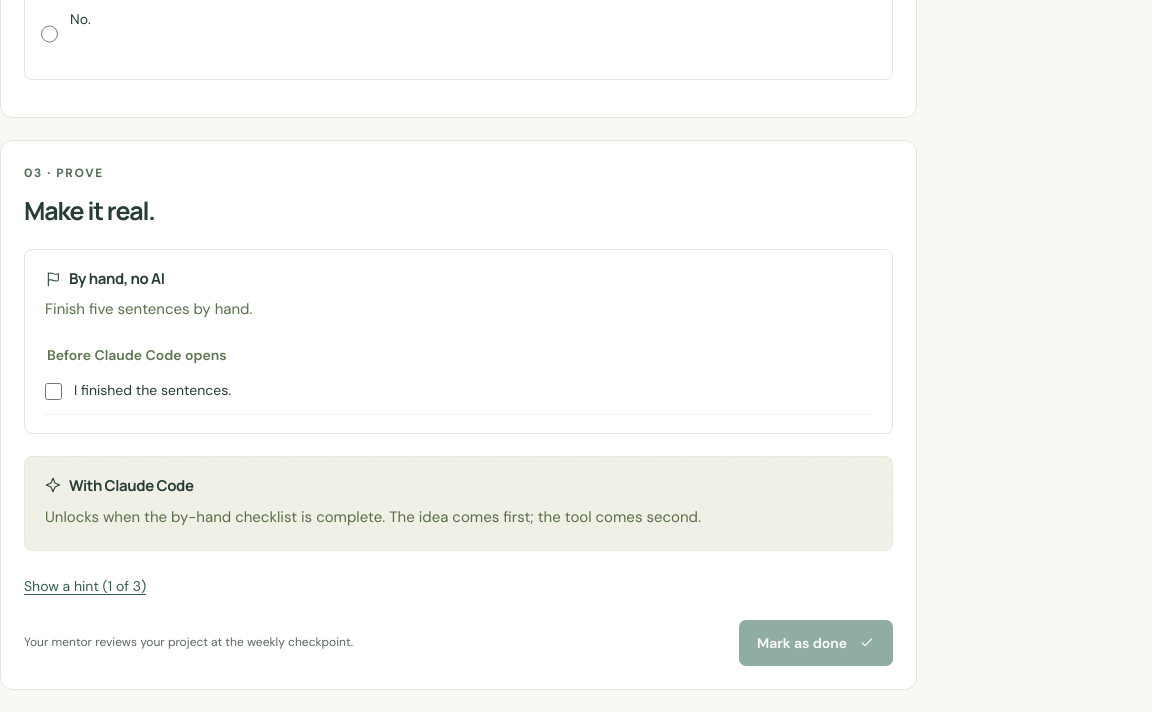
Test case: ConceptView widgets and step rail › asks for an explanation after the Claude Code task and saves it before the lesson can be done
(page scrolled)
expect the text "What changed, file by file?" is not shown: met
Click the checkbox labelled "I finished the sentences." at {"x": 54, "y": 392}, box [45, 383, 62, 400]
(page scrolled)
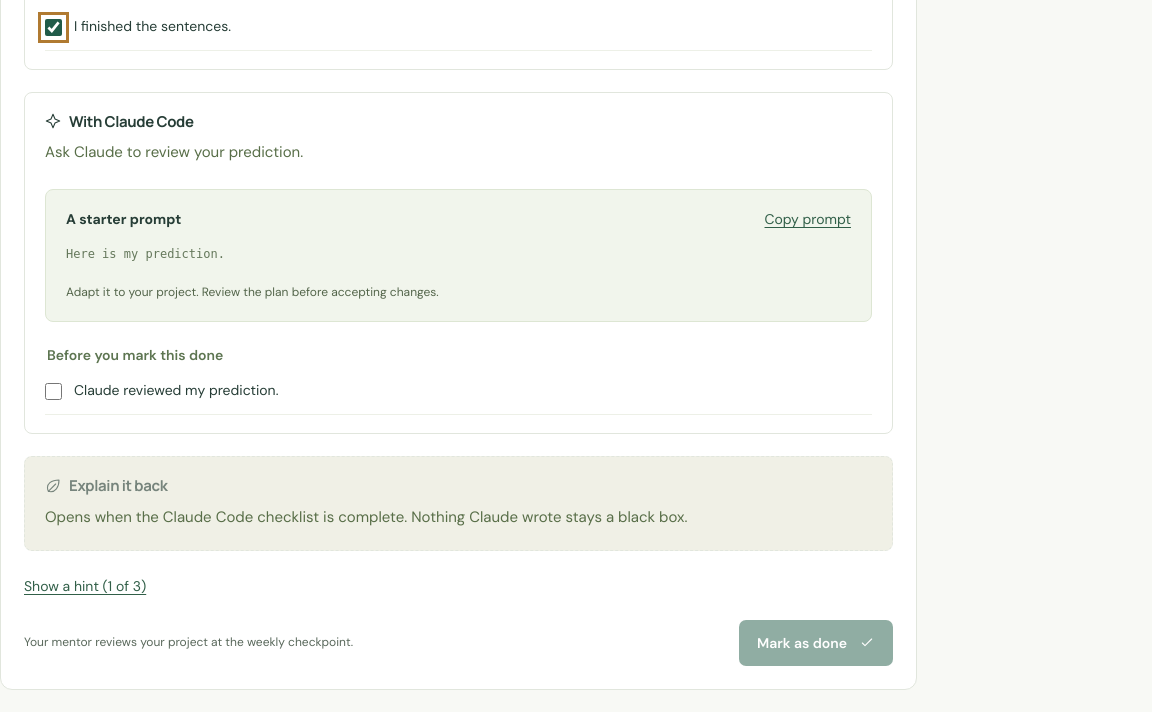
expect the text "Opens when the Claude Code checklist is complete" is shown: met, box [45, 507, 688, 527]
Click the checkbox labelled "Claude reviewed my prediction." at {"x": 54, "y": 392}, box [45, 383, 62, 400]
(page scrolled)
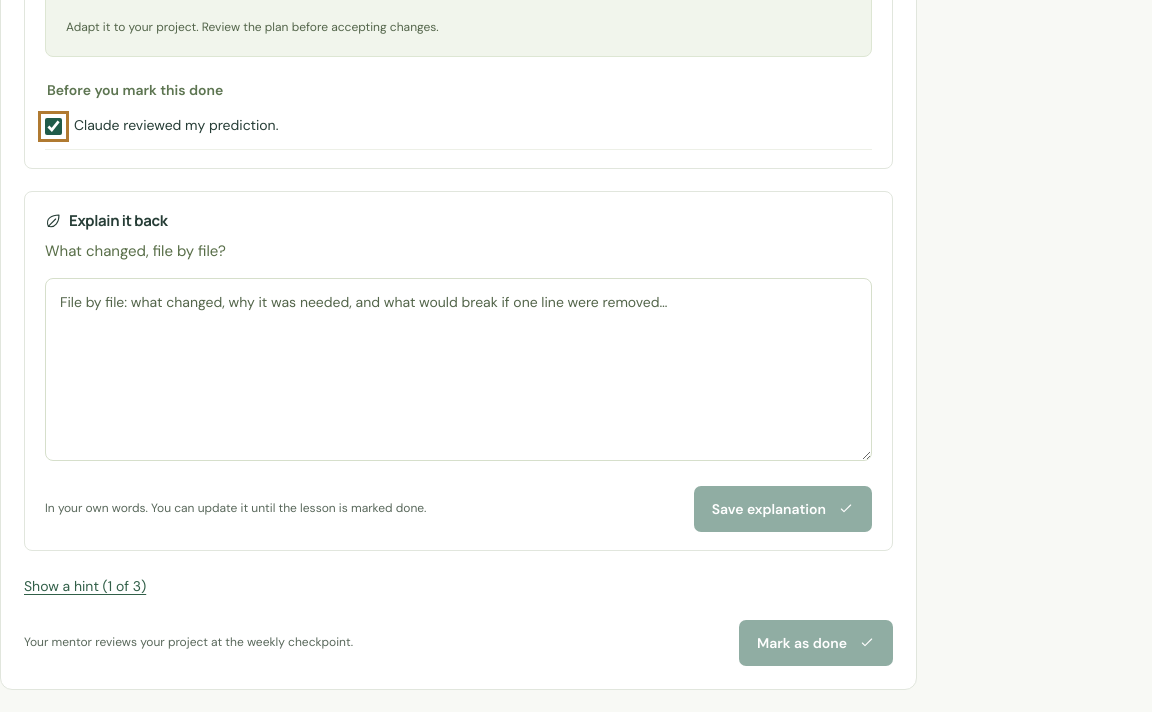
expect the button "Mark as done" is disabled: met, box [739, 620, 893, 666]
expect the text "What changed, file by file?" is shown: met, box [45, 241, 226, 261]
expect the button "Save explanation" is disabled: met, box [694, 486, 872, 532]
Type "hello.js now builds objects and prints a count line." into the text box named "Your explanation" at {"x": 458, "y": 369}, box [45, 278, 872, 460]
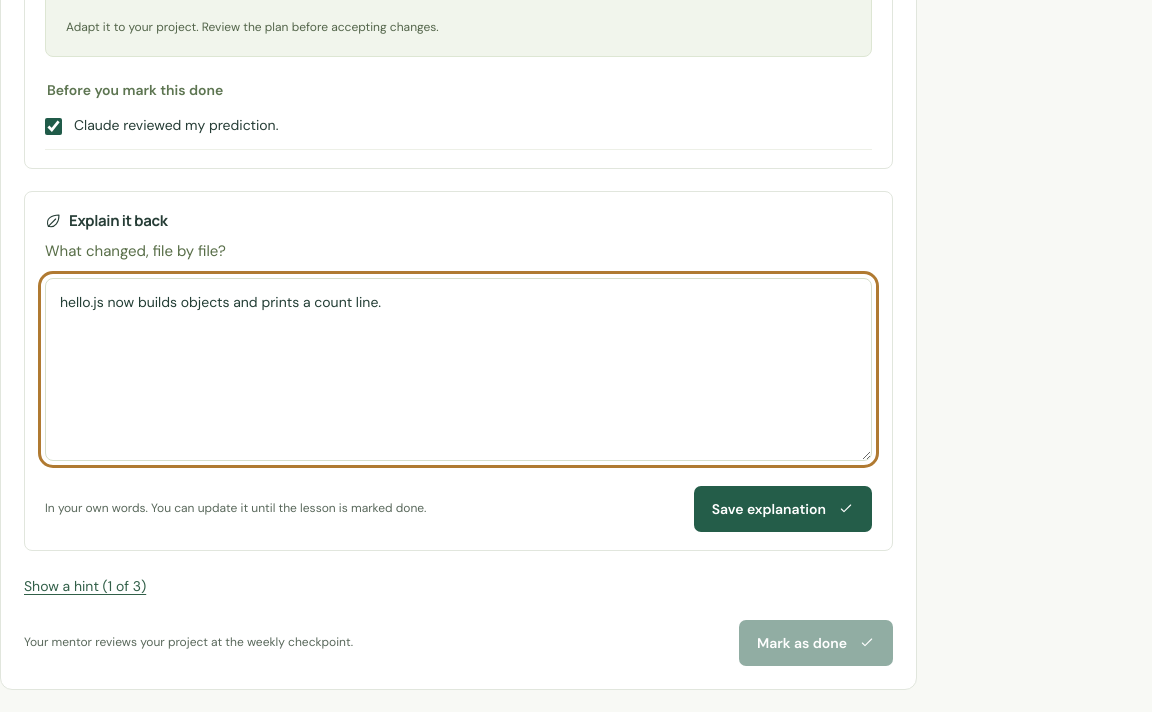
Click the button "Save explanation" at {"x": 783, "y": 509}, box [694, 486, 872, 532]
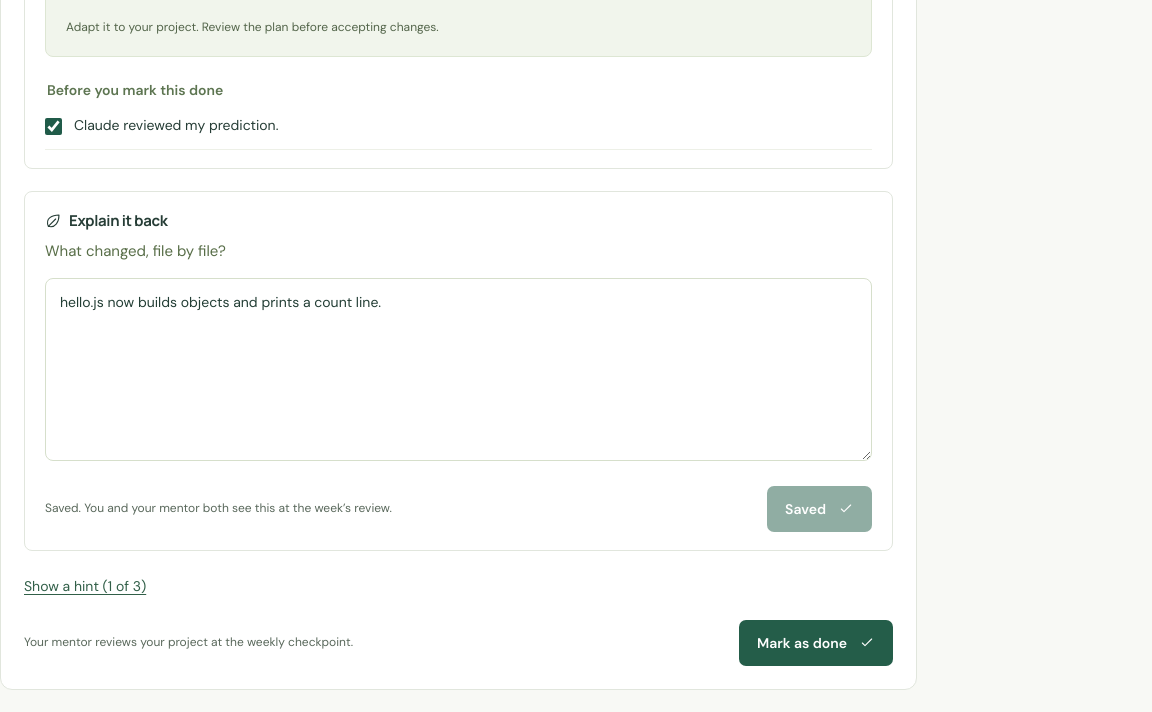
expect the text "You and your mentor both see this" is shown: met, box [45, 500, 392, 516]
expect the button "Mark as done" is enabled: met, box [739, 620, 893, 666]
